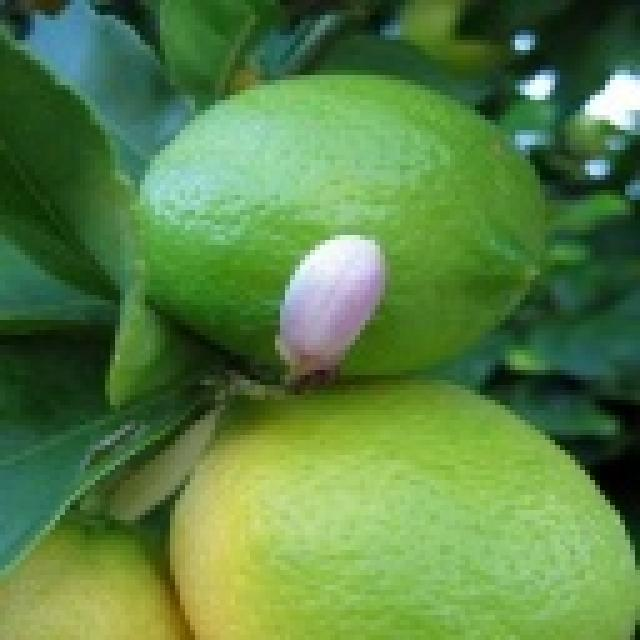lemon: (134, 63, 546, 376), (171, 377, 640, 640)
